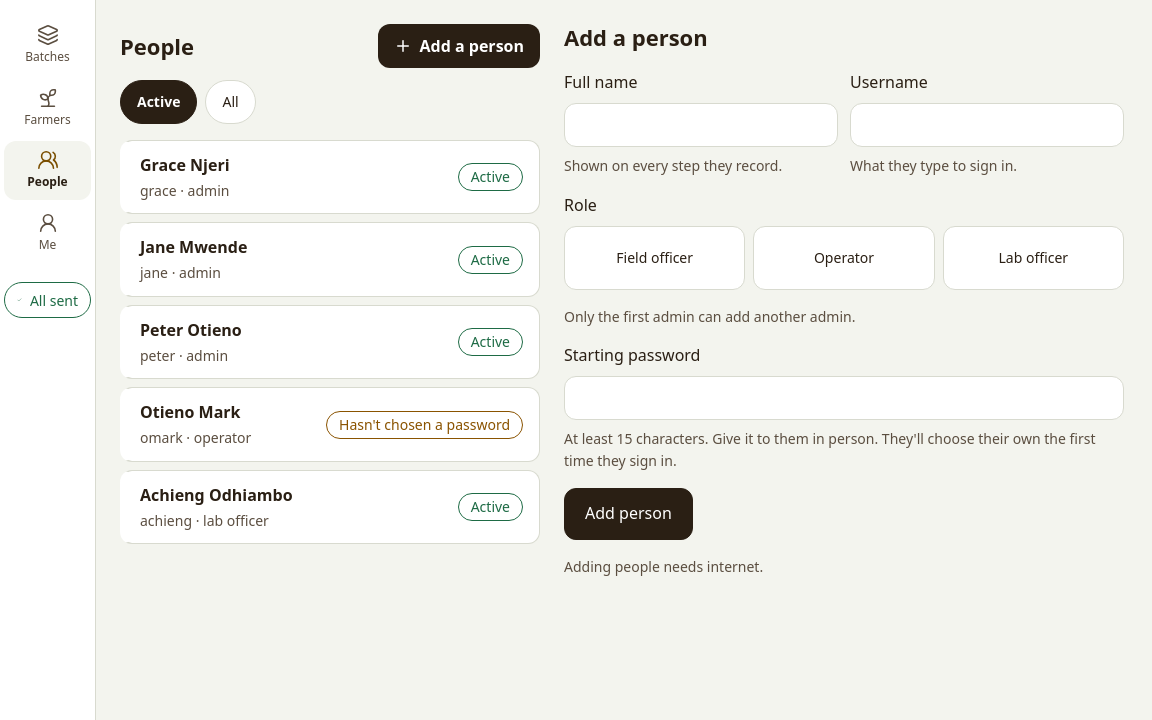
Scenario: Adding a person › says plainly when the username is taken
Expected: the radio button labelled "Operator" is shown, [753,226,935,290]
Step 1. Type "Another Mark" into the field labelled "Full name" → (701, 125), box [564,103,838,147]
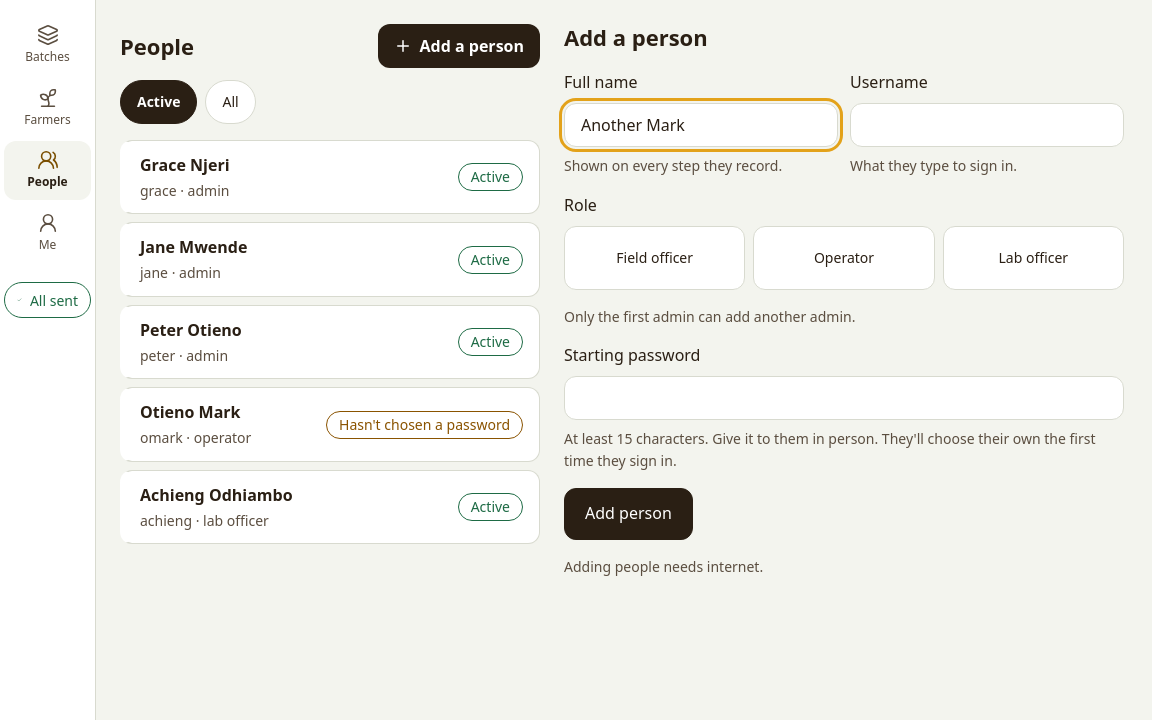
Step 2. Type "omark" into the field labelled "Username" → (987, 125), box [850,103,1124,147]
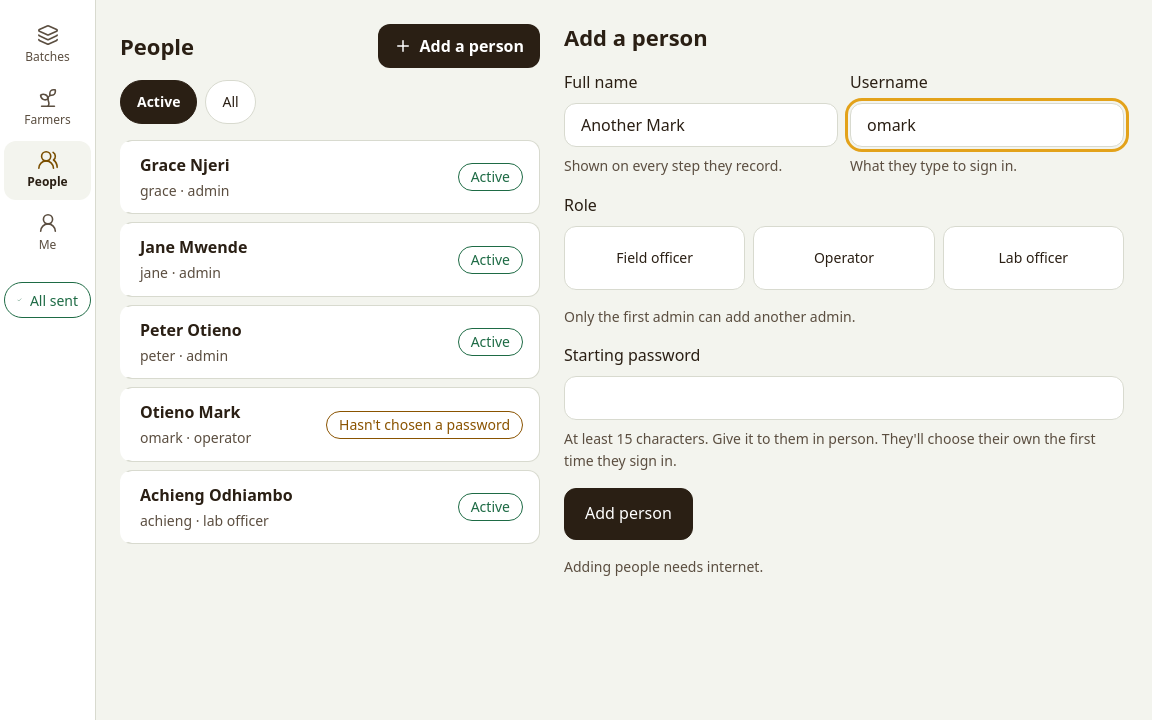
Step 3. Click the radio button labelled "Lab officer" → (1033, 258), box [943,226,1124,290]
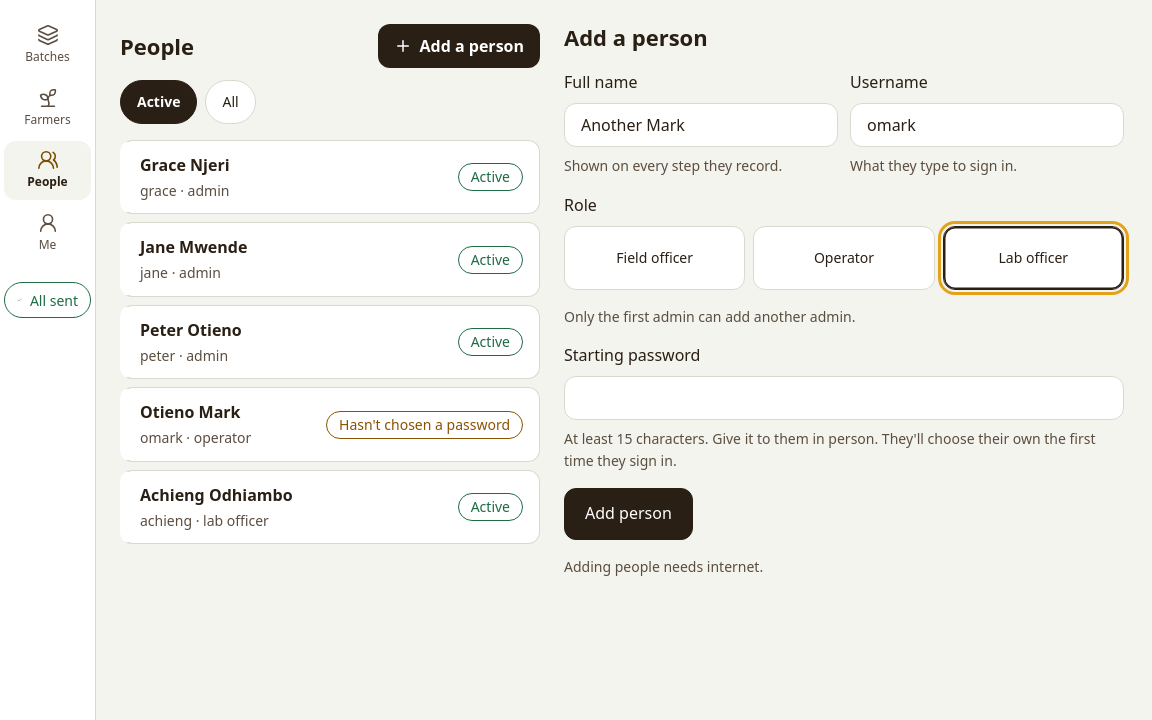
Step 4. Type "a starting sentence for otieno" into the password field labelled "Starting password" → (844, 398), box [564,376,1124,420]
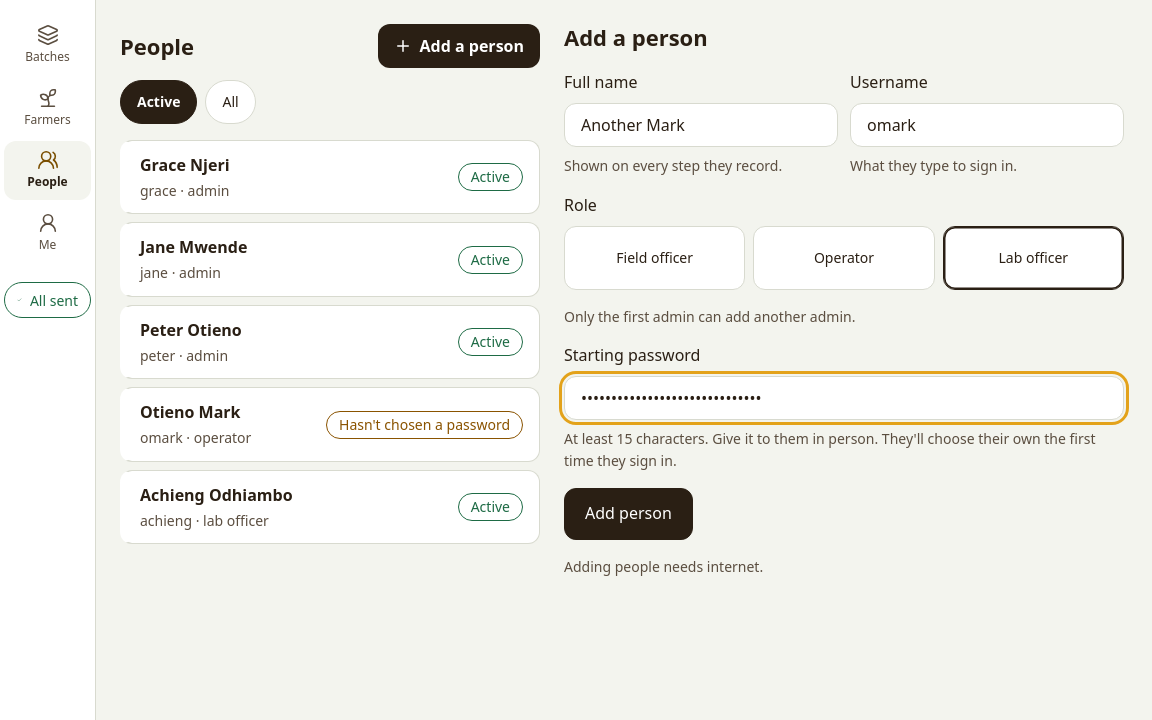
Step 5. Click the button "Add person" → (628, 514), box [564,488,693,540]
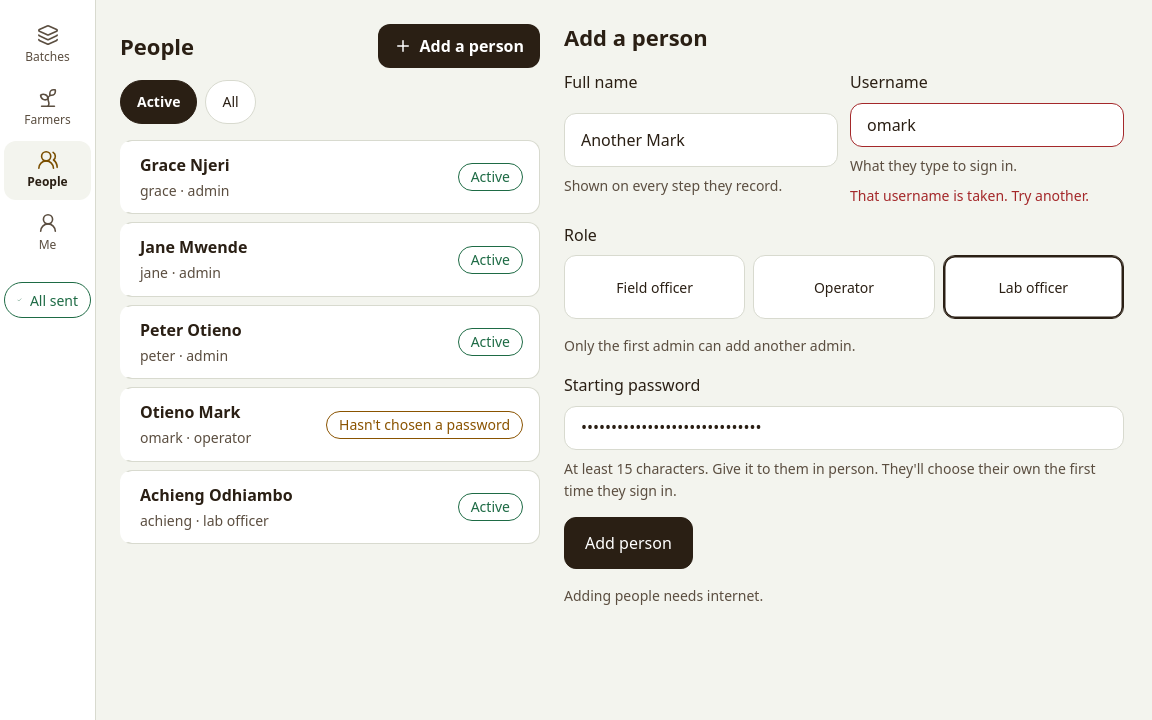
Now the text "That username is taken. Try another." is shown, box [850,185,1124,207]
